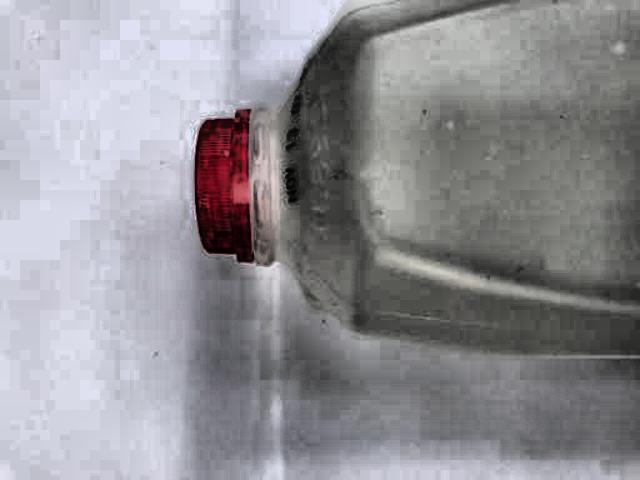Plastic: (185, 0, 640, 369)
